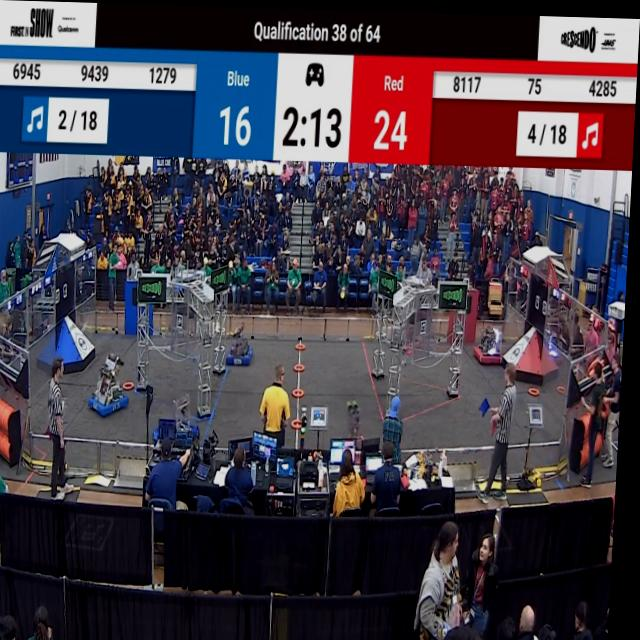Robot: (92, 350, 135, 422), (163, 382, 208, 439), (342, 397, 372, 456), (475, 317, 507, 366), (231, 320, 261, 369)
